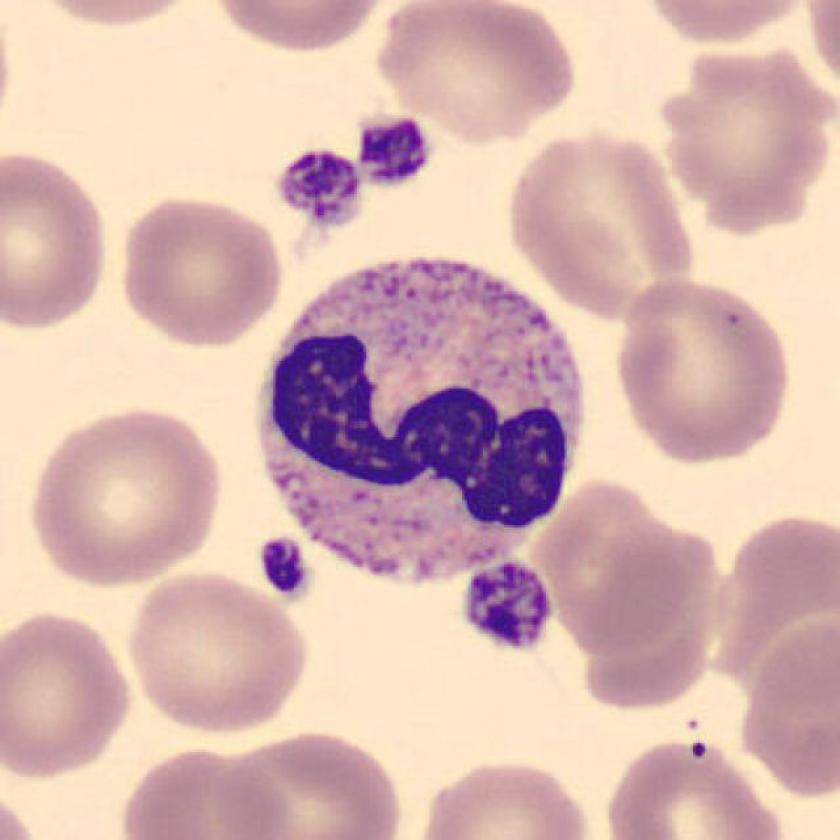neutrophil: (262, 264, 585, 583)
